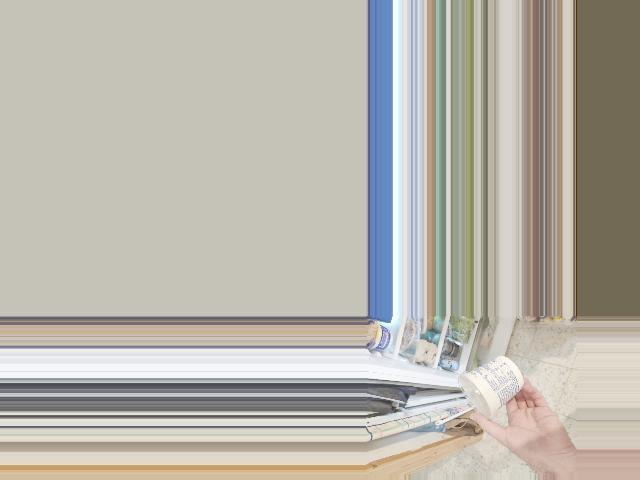cotage: (454, 357, 514, 419)
